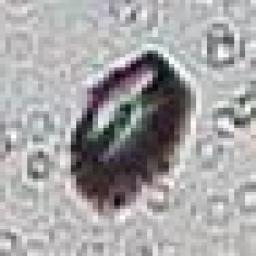crystals: (62, 47, 210, 213)
